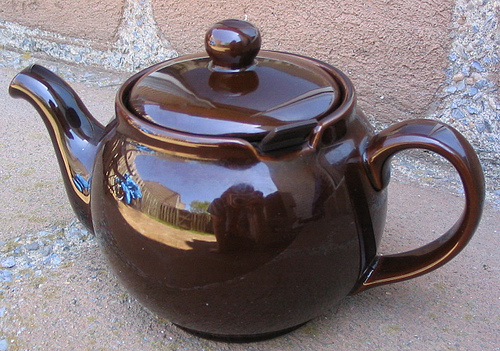teapot: (1, 5, 492, 342)
